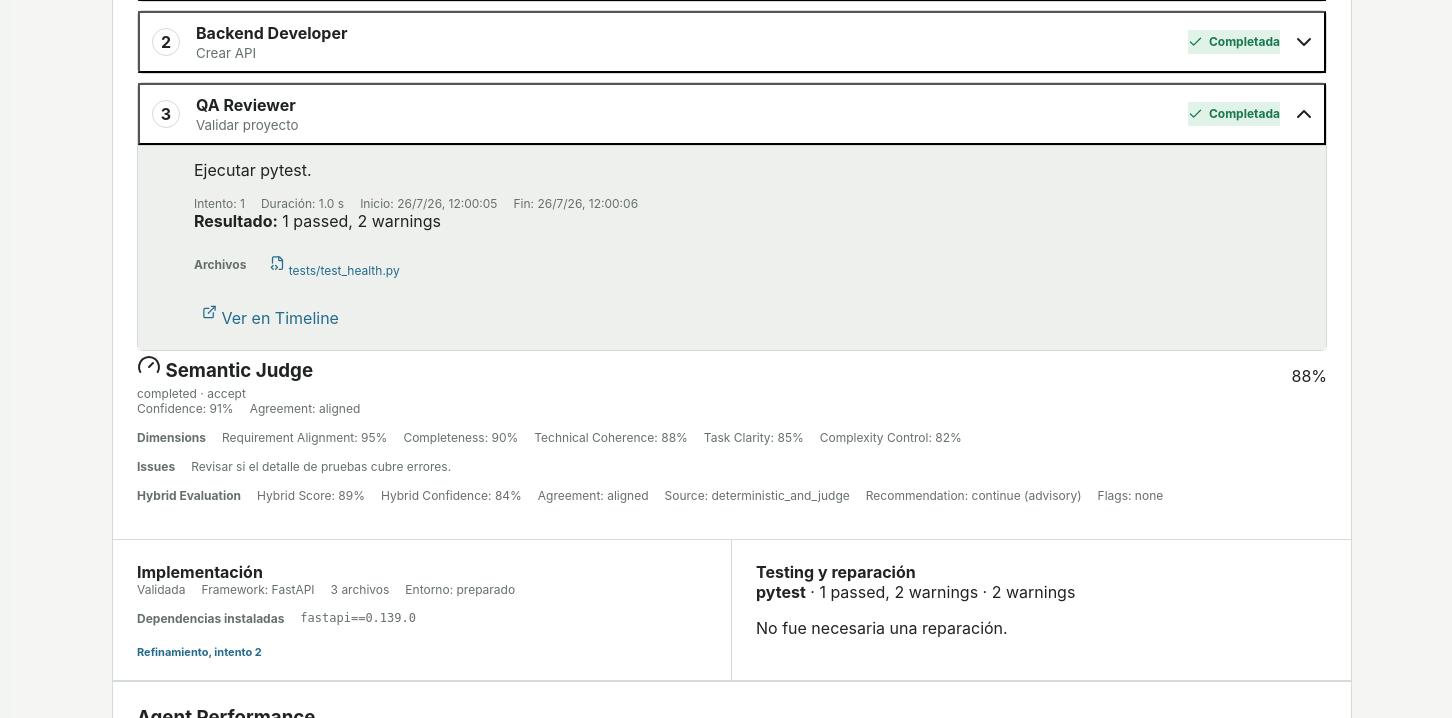
Test case: pages › navigates from QA to Timeline while preserving branch and event
(page scrolled)
Click the button "Ver en Timeline" at (270, 314), box [194,296,347,332]
(page scrolled)
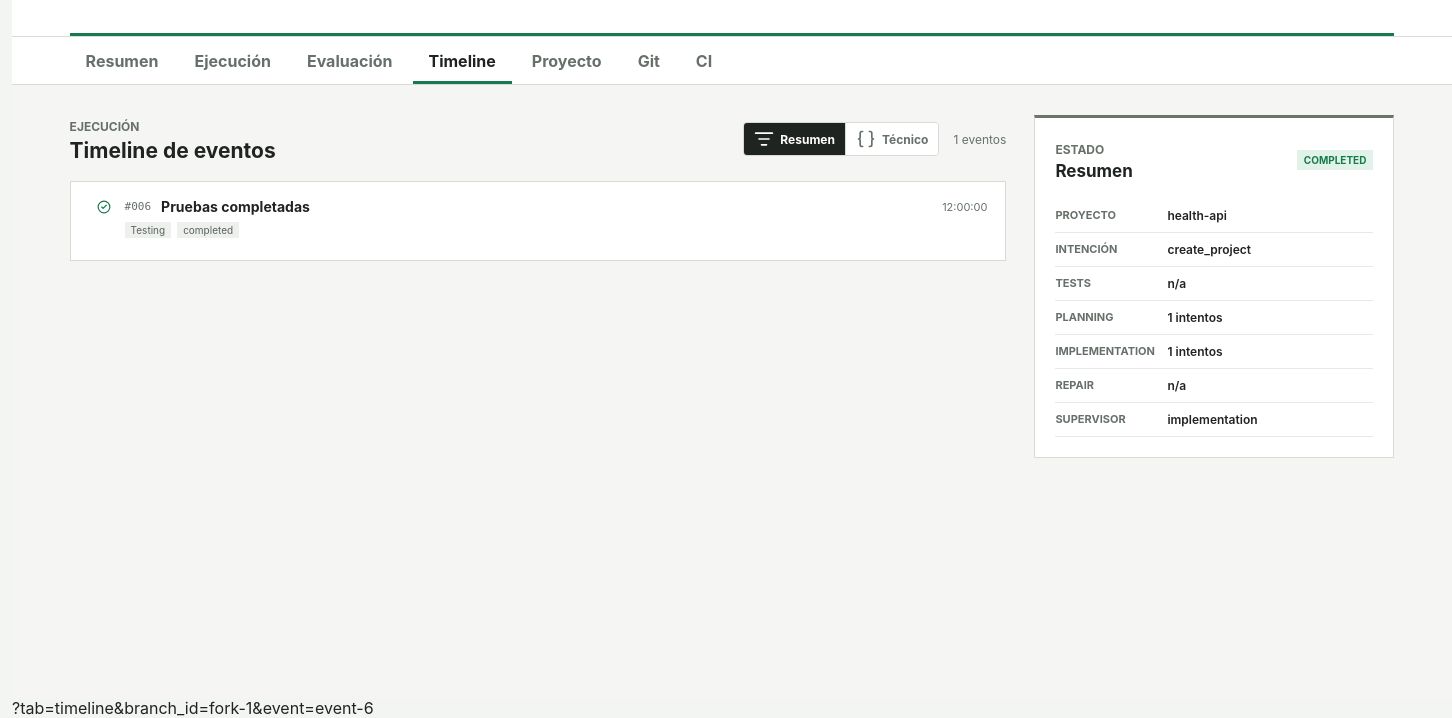
Expected: the text named "current-location" reads "?tab=timeline&branch_id=fork-1&event=event-6", [12,698,374,717]
